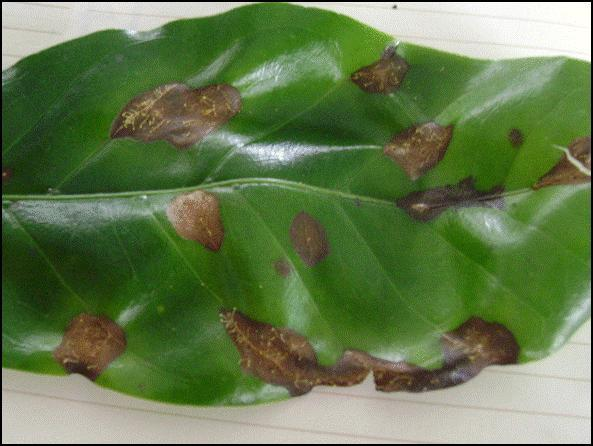ojo de gallo: (79, 62, 549, 283)
